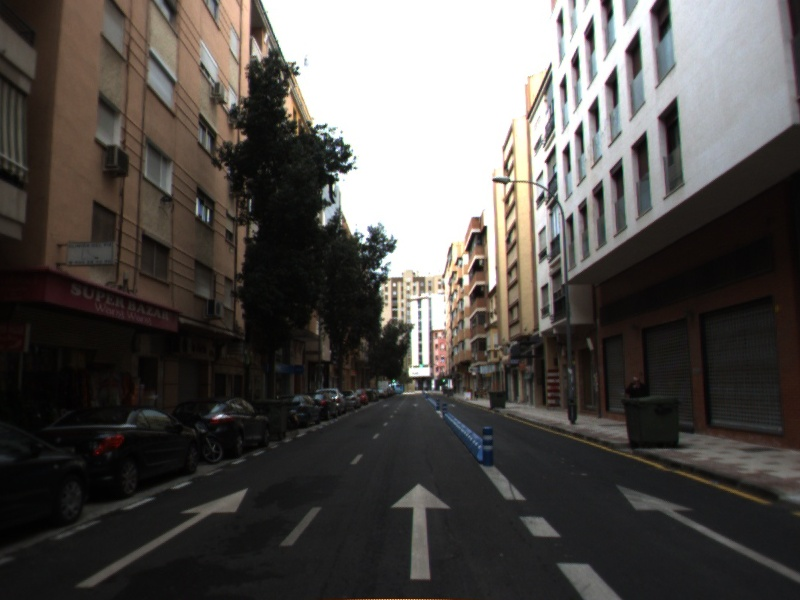STRAIGHT: (615, 483, 800, 584), (73, 486, 250, 590), (389, 482, 453, 581)
